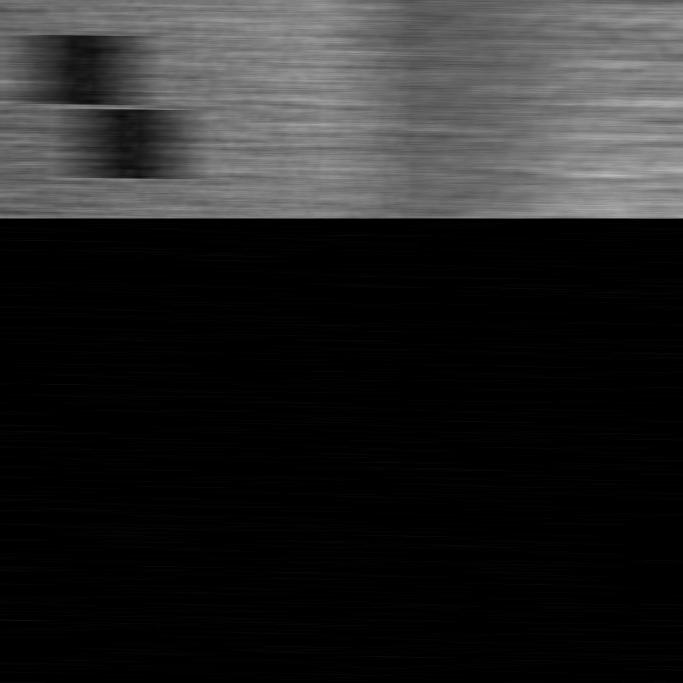Airbag: (0, 0, 379, 218), (357, 0, 683, 218)
